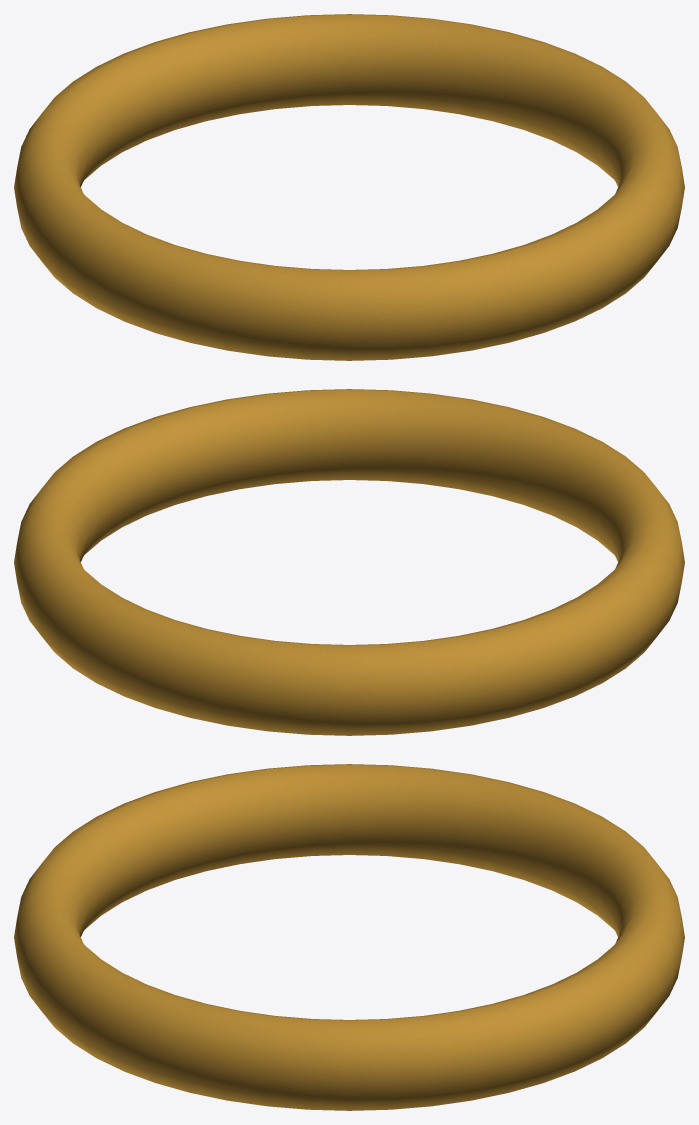
Rendered from reference_bangle.gltf.
3 renders of one model, top to bottom at view 1: azimuth 30°, elevation 25°; view 2: azimuth 150°, elevation 25°; view 3: azimuth 270°, elevation 25°, orthographic.
Parts seen in each view (by area): view 1: Bangle; view 2: Bangle; view 3: Bangle.
Boxes of the visible parts, bbox=[...] form: Bangle: bbox=[14, 14, 684, 360]; Bangle: bbox=[14, 389, 684, 735]; Bangle: bbox=[14, 764, 684, 1110].
Size of the model in its own units: 0.164 by 0.024 by 0.164.
Materials: 1 (1 with a texture image).
